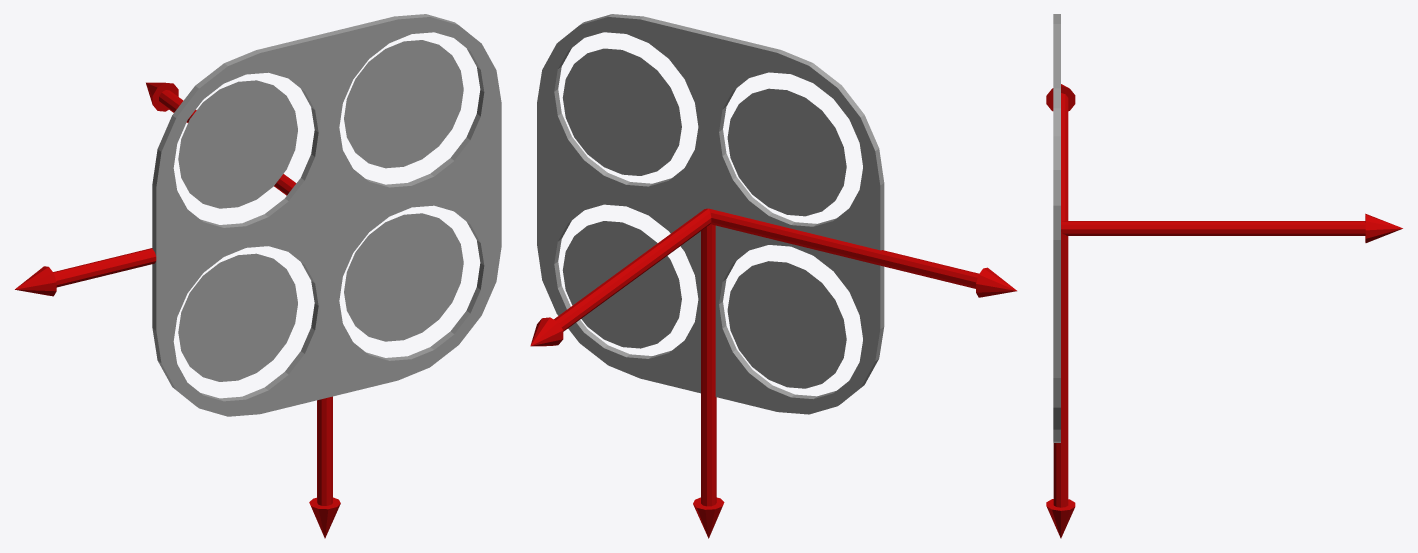
File: quadcopter.obj
3 views of the same model, side by side, from view 1: azimuth 30°, elevation 25°; view 2: azimuth 150°, elevation 25°; view 3: azimuth 270°, elevation 25° (orthographic). The views are drawn at different scales.
Parts seen in each view (by area): view 1: Cube, Cube.001_Cube.002, Circle.001, Circle, Circle.002; view 2: Cube, Cube.001_Cube.002, Circle.001, Circle, Circle.002; view 3: Circle.002, Cube, Circle, Circle.001.
Part boxes in pixels (x1,y1,x2,y2): Cube: (152,14,501,416); Cube.001_Cube.002: (178,40,463,381); Circle.001: (15,248,156,296); Circle: (309,396,340,538); Circle.002: (146,82,296,195); Cube: (537,14,884,414); Cube.001_Cube.002: (562,48,846,388); Circle.001: (709,208,1016,297); Circle: (693,224,724,538); Circle.002: (530,208,711,346); Circle.002: (1061,213,1402,242); Cube: (1053,14,1060,442); Circle: (1046,231,1075,538); Circle.001: (1046,84,1075,221).
Bounding box in the file's own units: 0.35 × 0.35 × 0.2345.
